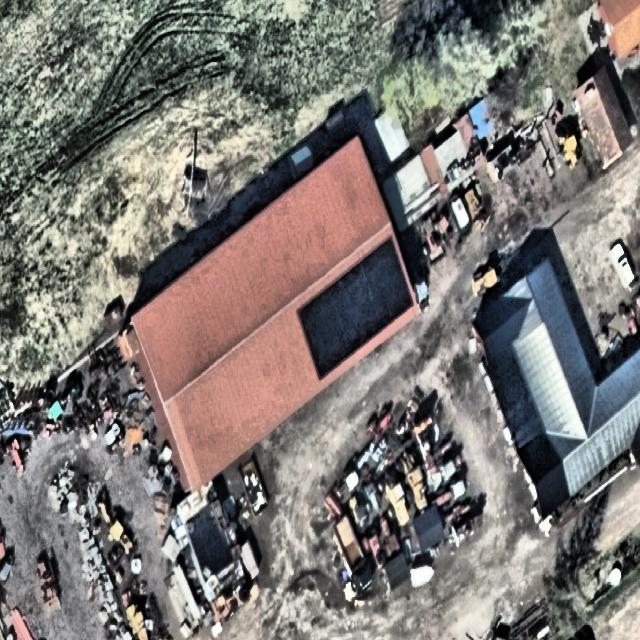roof_pv: (294, 235, 416, 369)
